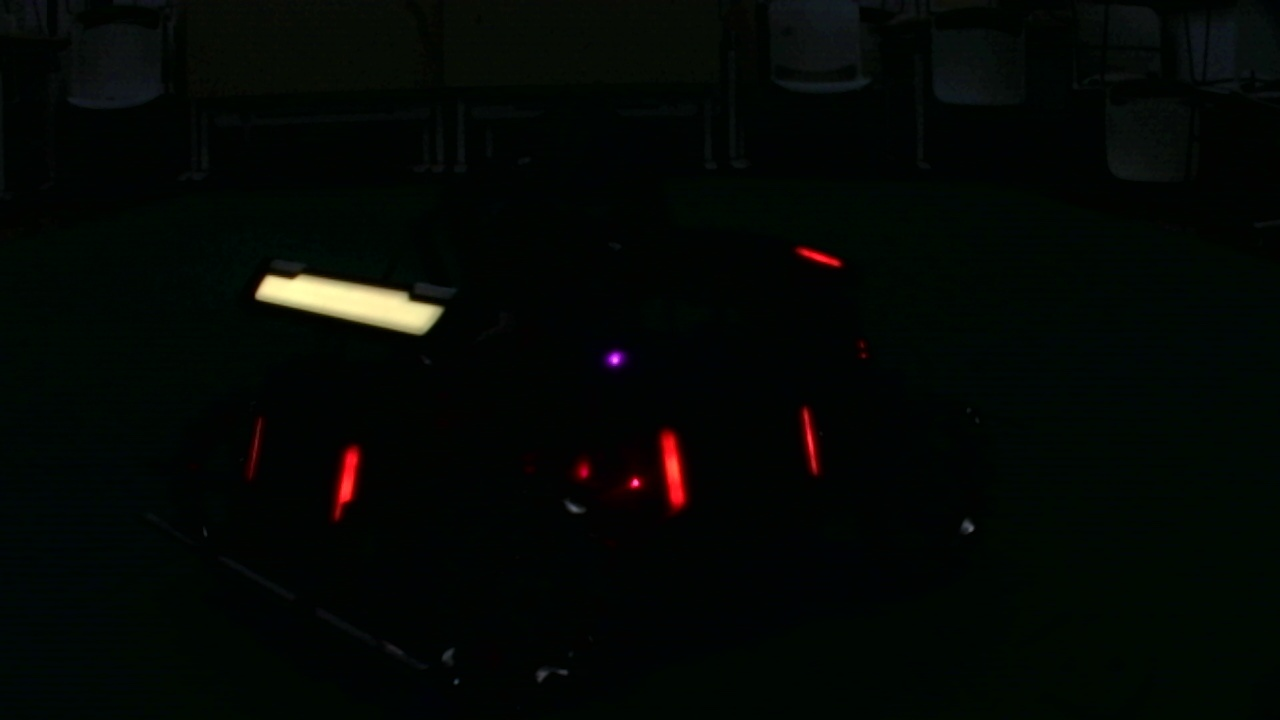lamp: (654, 427, 687, 512), (332, 442, 361, 518), (796, 402, 825, 478)
notpair1: (333, 428, 688, 519)
pair1: (658, 404, 825, 511)
